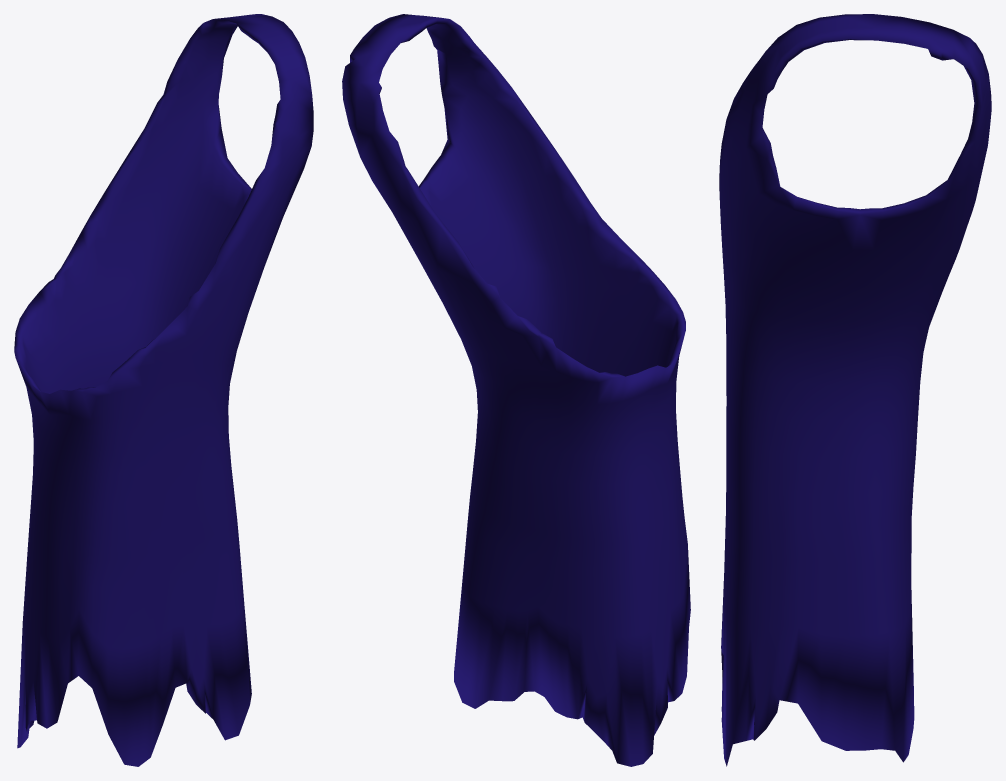
Rendered from Main Clothes.fbx.
3 views of the same model, side by side, from view 1: azimuth 30°, elevation 25°; view 2: azimuth 150°, elevation 25°; view 3: azimuth 270°, elevation 25° (orthographic). The views are drawn at different scales.
Parts seen in each view (by area): view 1: Humanoid_073.003; view 2: Humanoid_073.003; view 3: Humanoid_073.003.
Boxes of the visible parts, x1=… form: Humanoid_073.003: x1=14, y1=14, x2=313, y2=766; Humanoid_073.003: x1=342, y1=14, x2=690, y2=766; Humanoid_073.003: x1=719, y1=14, x2=991, y2=766.
Size of the model in its own units: 0.4427 by 1.04 by 0.3143.
